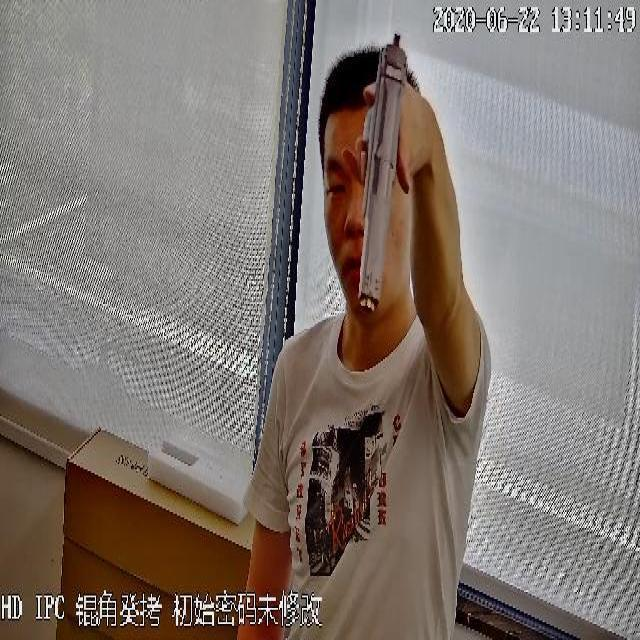pistol: (354, 34, 412, 314)
